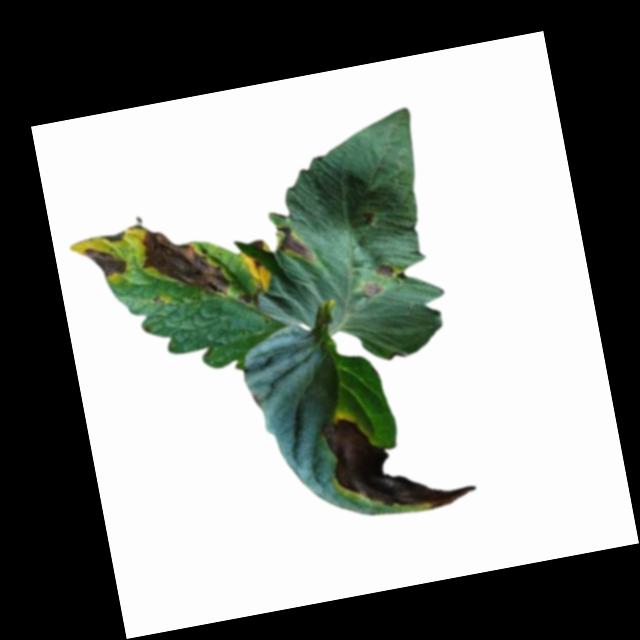Early_blight: (315, 393, 479, 526), (136, 216, 231, 311), (80, 240, 129, 280), (275, 222, 315, 266), (240, 248, 271, 291), (360, 279, 384, 299), (101, 226, 126, 244), (376, 261, 396, 277)
